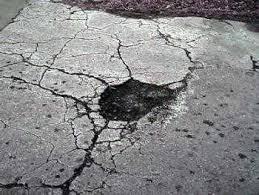pothole: (71, 65, 197, 141)
